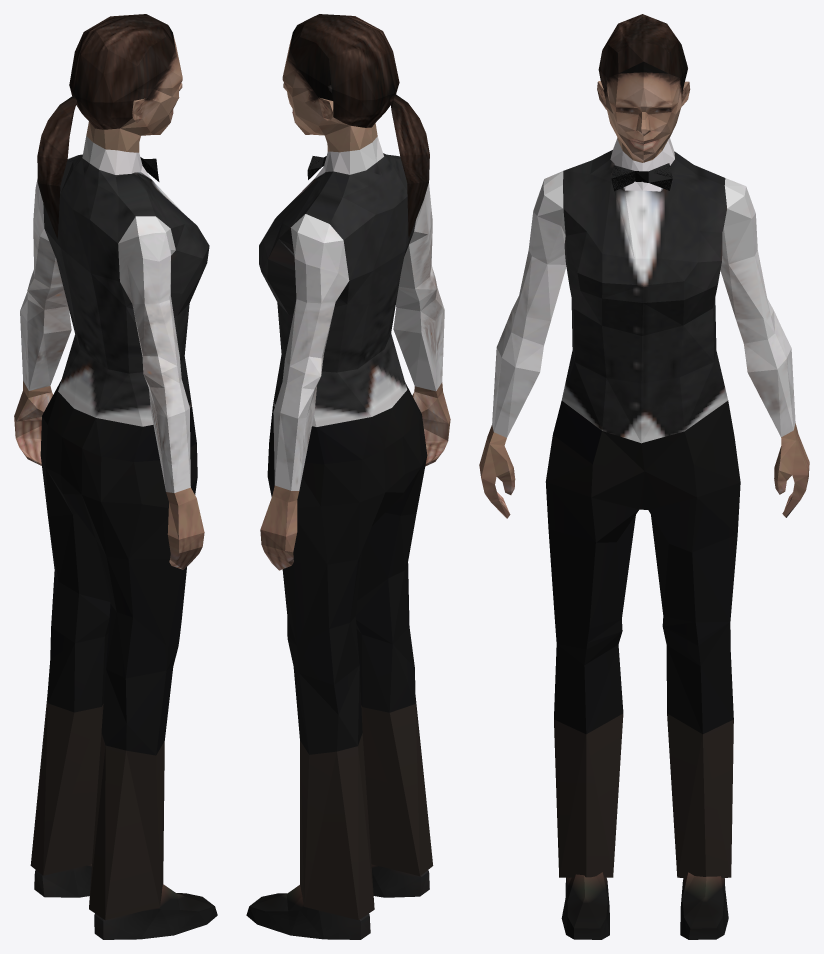
The model's file is crogrl3.obj.
3 renders of one model, left to right at view 1: azimuth 30°, elevation 25°; view 2: azimuth 150°, elevation 25°; view 3: azimuth 270°, elevation 25°, orthographic.
Visible parts, largest first — view 1: _Pelvis; view 2: _Pelvis; view 3: _Pelvis.
Boxes of the visible parts, x1=… form: _Pelvis: x1=14, y1=14, x2=217, y2=939; _Pelvis: x1=246, y1=14, x2=450, y2=939; _Pelvis: x1=479, y1=14, x2=809, y2=939.
Bounding box in the file's own units: 0.3356 × 1.82 × 0.6116.
Materials: 1 (1 with a texture image).
